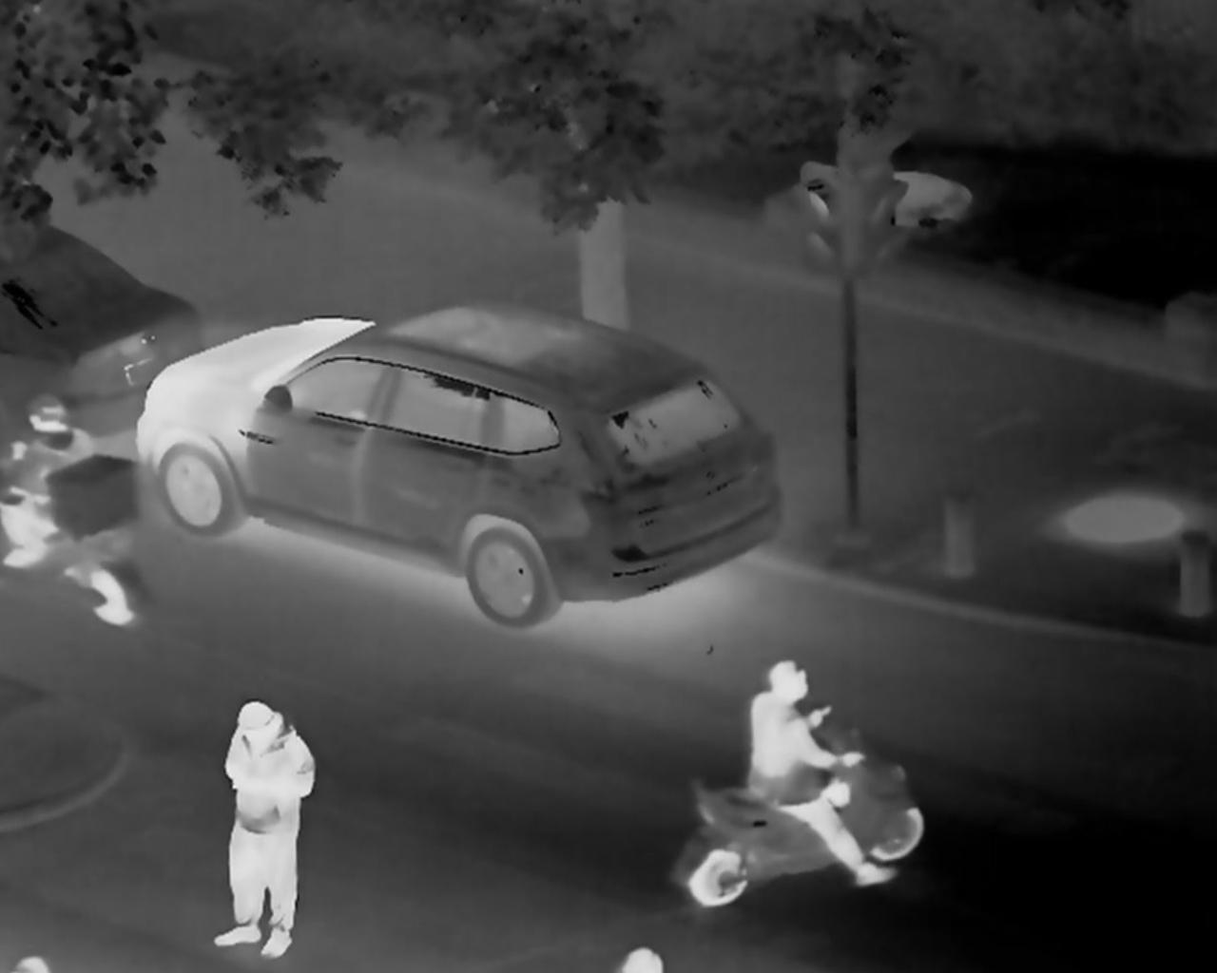person: (745, 653, 902, 890), (209, 697, 317, 961)
